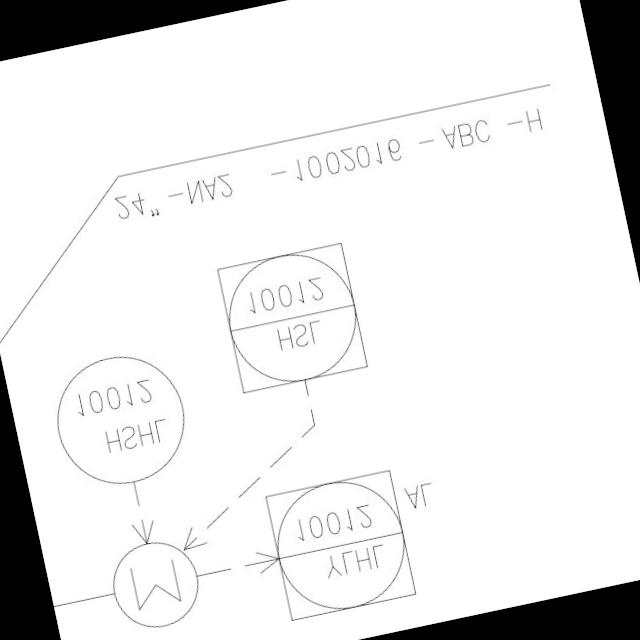M: (98, 528, 207, 640)
